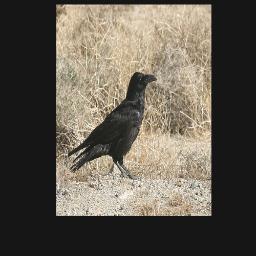Crow: (67, 71, 157, 180)
